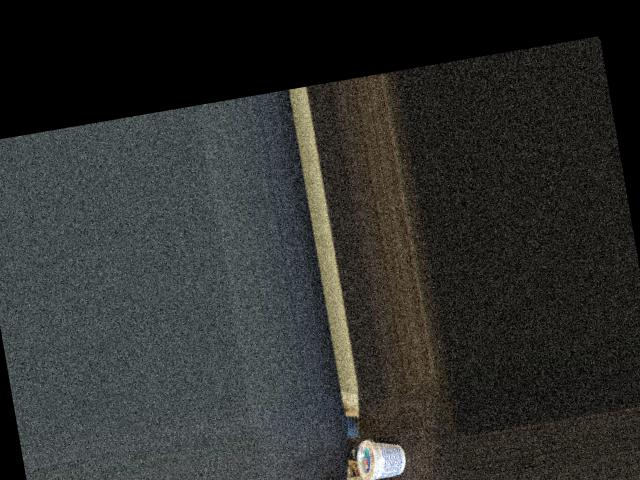cotage: (350, 434, 408, 480)
